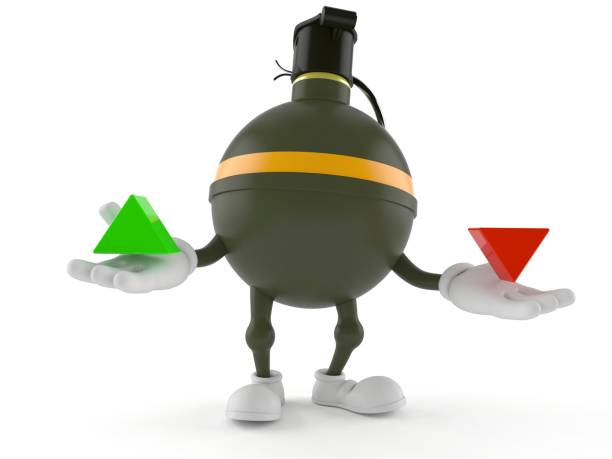e1: (214, 7, 416, 308)
